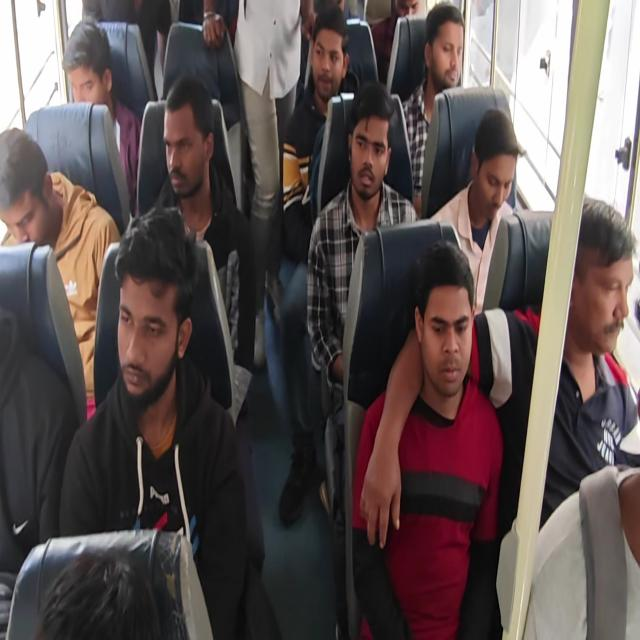person: (1, 1, 638, 638), (363, 195, 640, 544), (58, 205, 249, 638), (351, 240, 504, 638), (275, 4, 352, 526), (306, 80, 419, 427), (202, 0, 304, 367), (150, 74, 257, 422), (0, 127, 121, 421), (428, 107, 526, 316), (281, 4, 351, 258), (62, 17, 142, 216), (36, 548, 190, 638), (400, 1, 465, 214), (82, 0, 172, 102), (370, 0, 421, 85)
